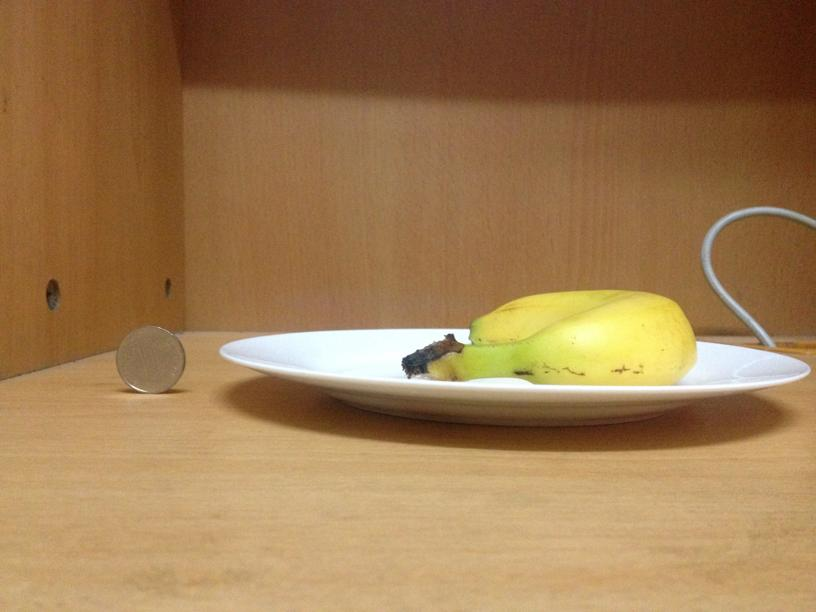banana: (464, 290, 699, 386)
coin: (114, 324, 186, 391)
